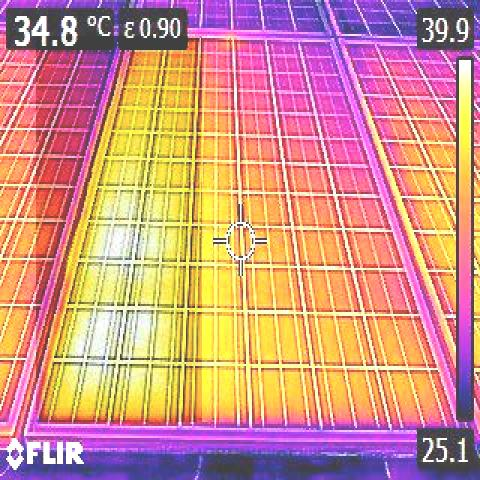fault: (36, 36, 202, 422)
